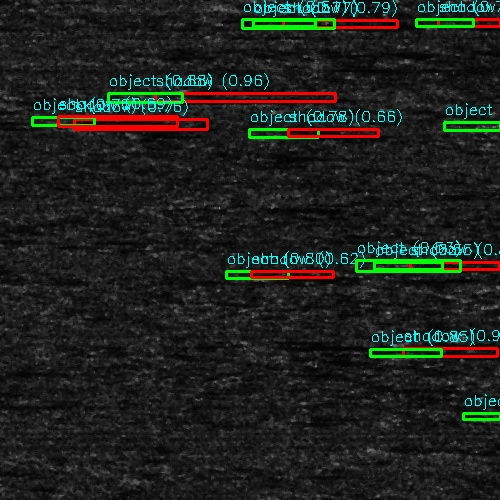rock: (436, 116, 500, 133), (28, 113, 91, 130), (39, 119, 102, 134), (111, 95, 194, 102), (418, 15, 449, 32), (370, 262, 443, 269), (256, 21, 319, 26), (251, 131, 314, 136), (224, 271, 265, 278), (408, 337, 439, 346), (478, 299, 500, 308), (224, 343, 265, 346), (484, 414, 500, 421), (386, 351, 417, 354), (353, 277, 374, 280)
shadow: (60, 113, 174, 130), (71, 119, 186, 134), (153, 95, 333, 102), (434, 15, 500, 32), (407, 262, 500, 269), (245, 271, 338, 278), (288, 21, 418, 26), (424, 337, 491, 346), (283, 131, 381, 136), (245, 343, 365, 346), (364, 277, 464, 280), (402, 351, 500, 354), (0, 101, 49, 104)
